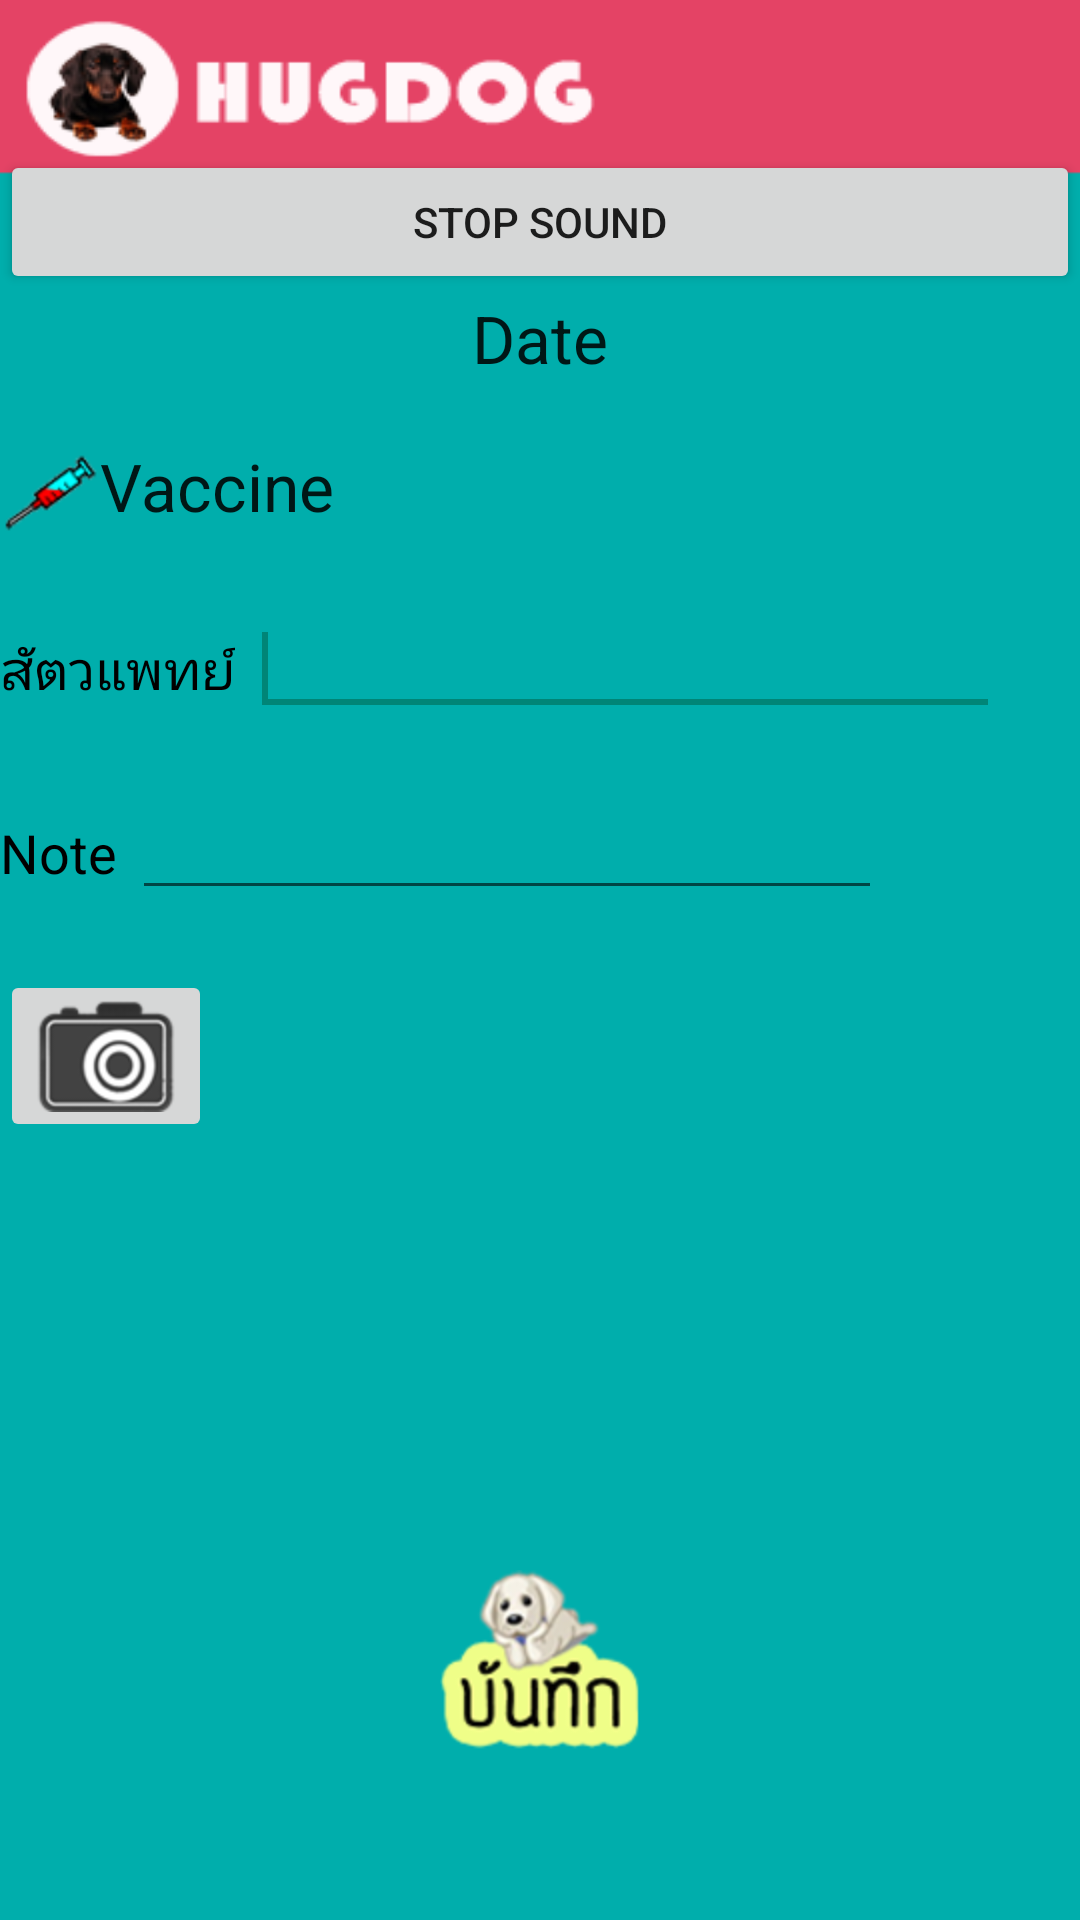

Named icons in this screenshot (1080px x 1920px) and their bounding boxes, (x1, y1, x2, y2):
cam: (12, 988, 200, 1124)
